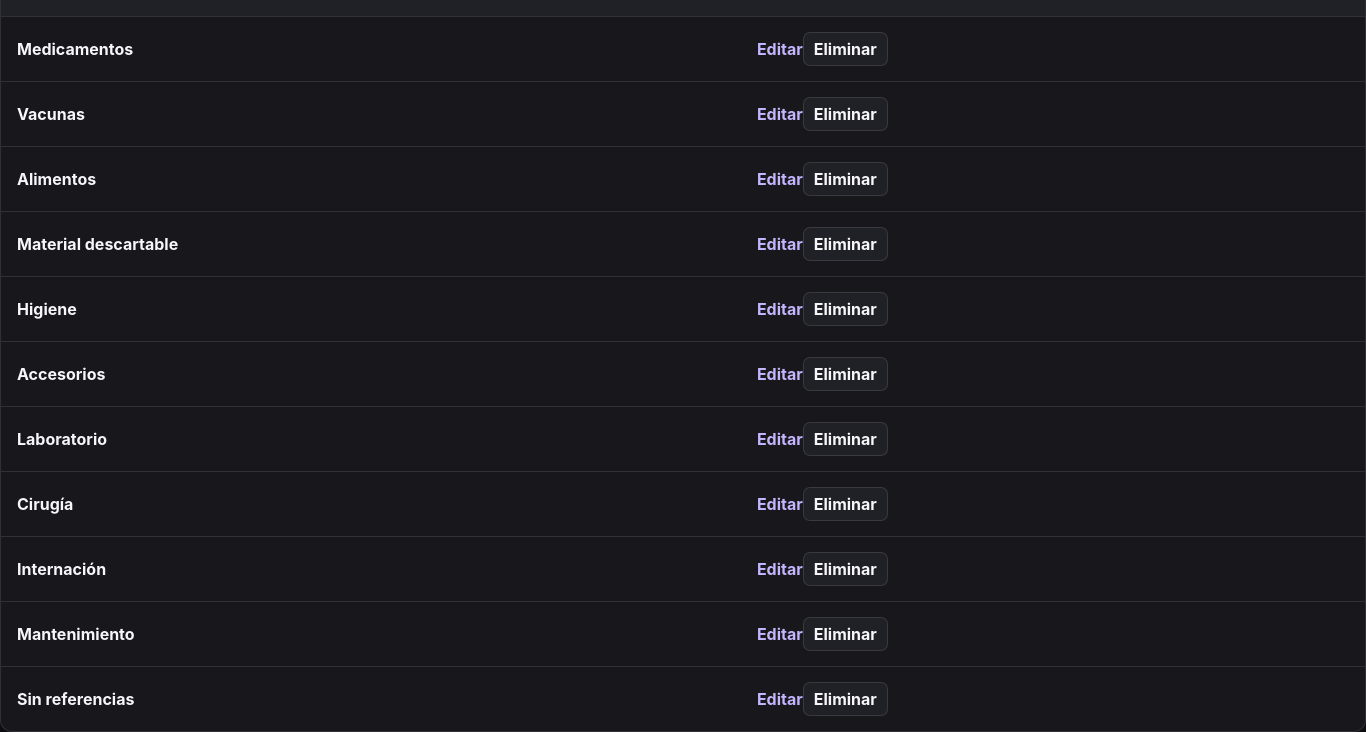
Test: CategoryPage › removes an unreferenced category only after confirmed deletion and provider revision
The image size is (1366, 732).
(page scrolled)
Click the button "Eliminar" in the row of "Sin referencias" at point(845, 699), box [803,682,888,716]
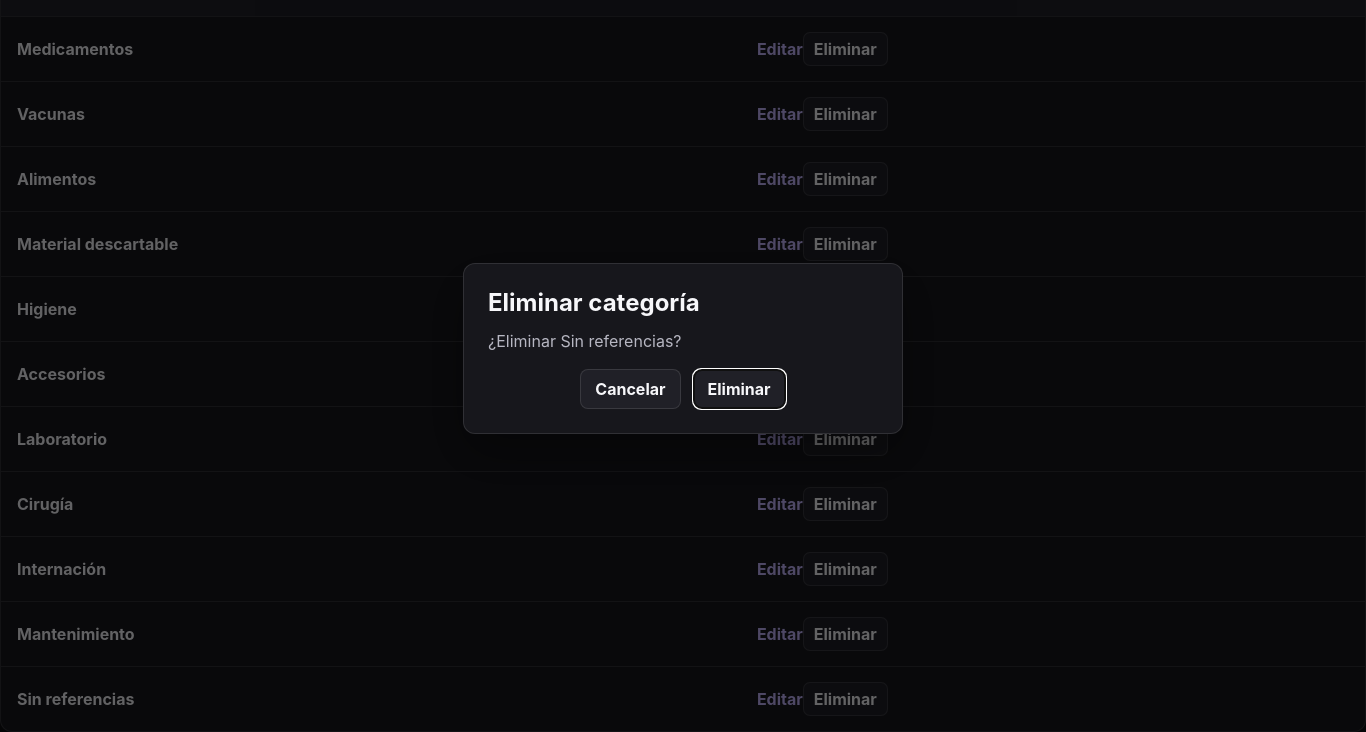
Click the button "Eliminar" at point(739, 388), box [692,368,786,408]
(page scrolled)
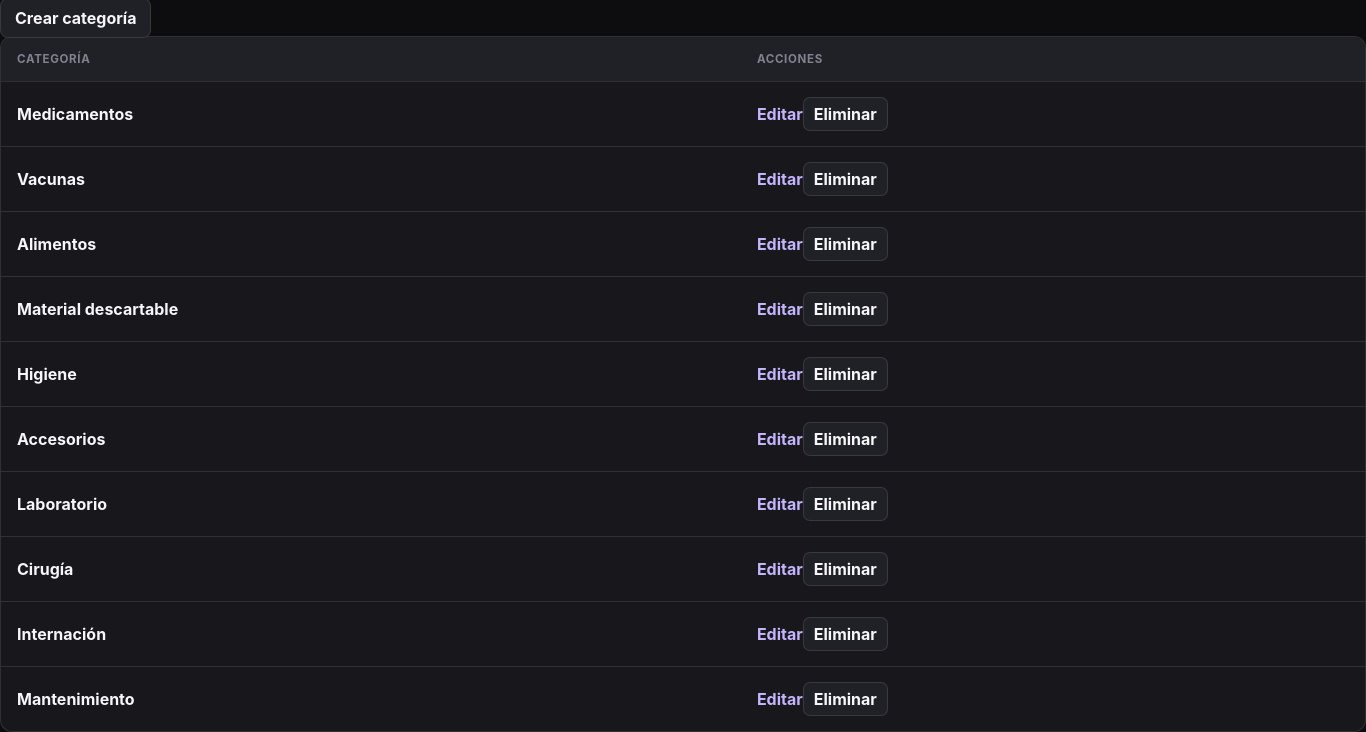
Check: the column heading "Sin referencias" is gone
